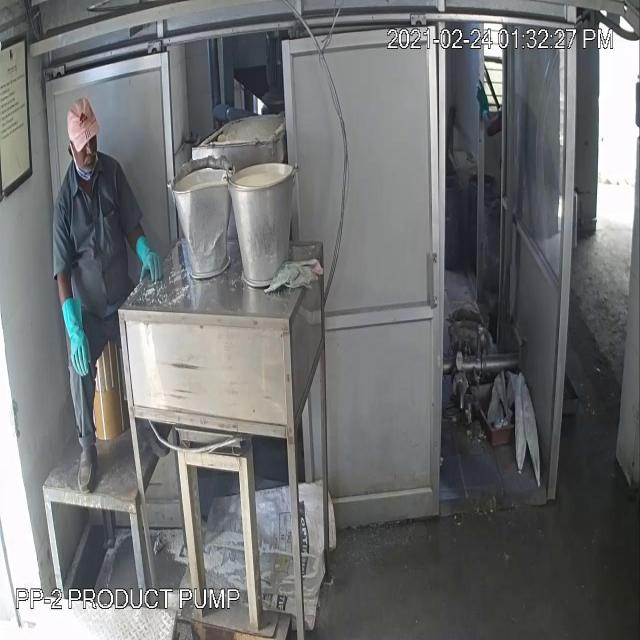no-helmet: (59, 79, 115, 170)
